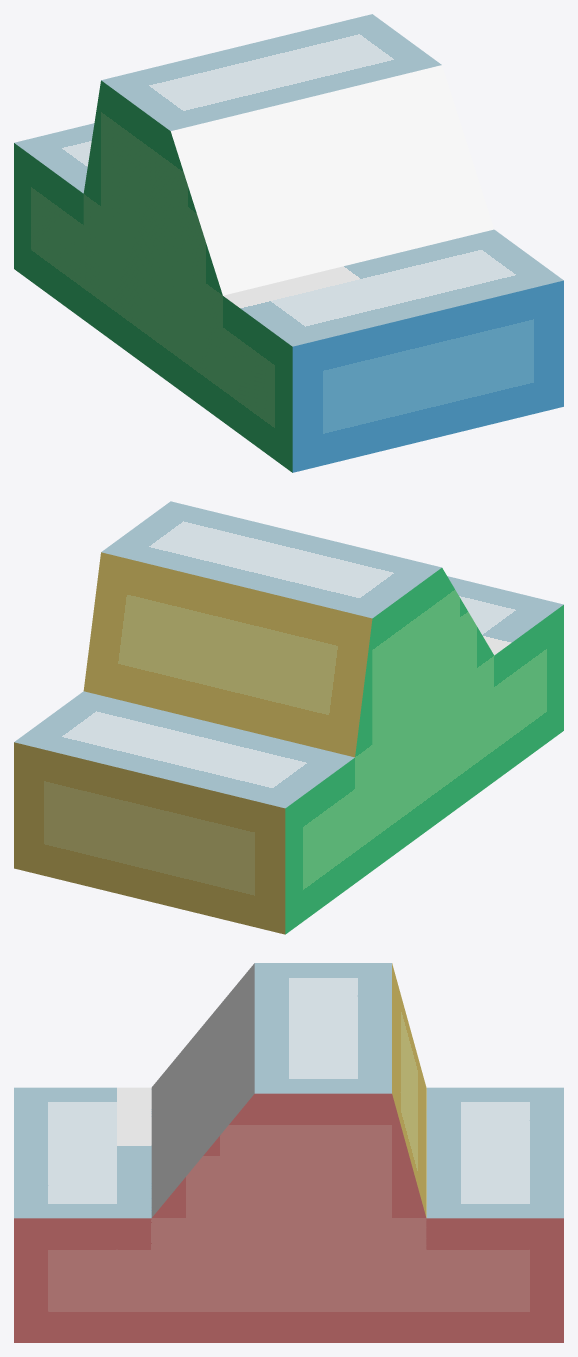
Rendered from boxycar.gltf.
3 views of the same model, one above another, from view 1: azimuth 30°, elevation 25°; view 2: azimuth 150°, elevation 25°; view 3: azimuth 270°, elevation 25° (orthographic).
Parts seen in each view (by area): view 1: cube; view 2: cube; view 3: cube.
Boxes of the visible parts, box(x1,y1,x2,y2) form: cube: box(14, 14, 563, 472); cube: box(14, 501, 563, 934); cube: box(14, 963, 563, 1342).
Size of the model in its own units: 0.5625 by 0.5 by 1.
Materials: 1 (1 with a texture image).
